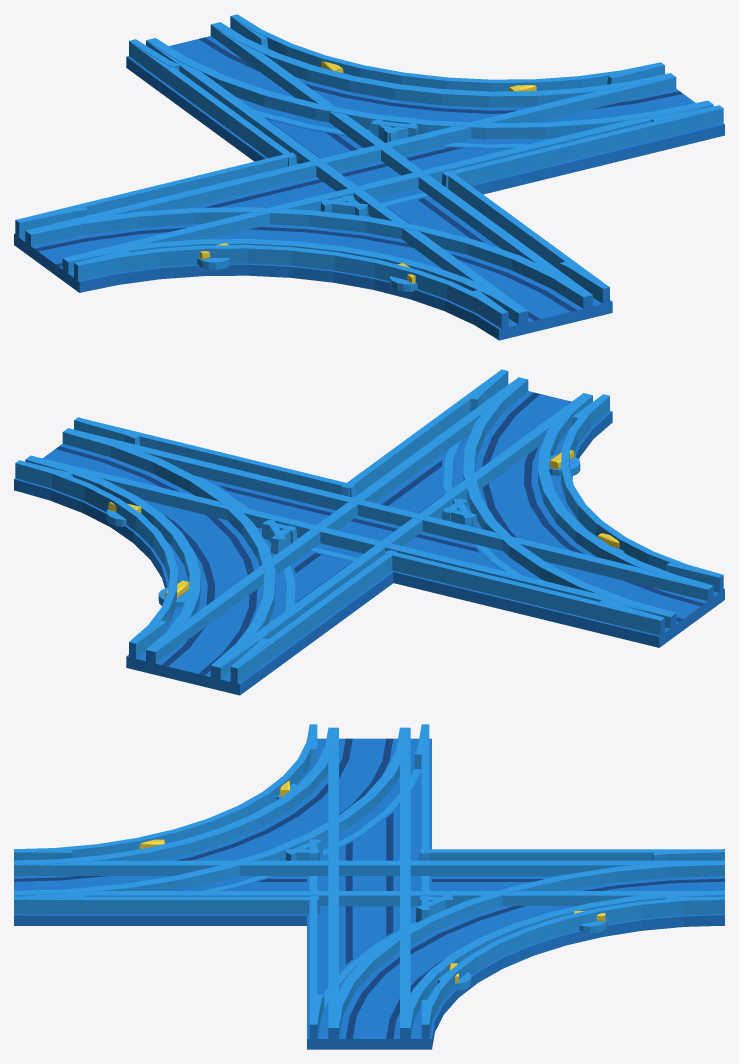
Rendered from Track_Point_Crossing.fbx.
3 renders of one model, top to bottom at view 1: azimuth 30°, elevation 25°; view 2: azimuth 150°, elevation 25°; view 3: azimuth 270°, elevation 25°, orthographic. The views are drawn at different scales.
Visible parts, largest first — view 1: Rail south-west, Rail west-east, Rail north-east, Rail north-south; view 2: Rail west-east, Rail north-east, Rail south-west, Rail north-south; view 3: Rail north-east, Rail north-south, Rail south-west, Rail west-east.
Part boxes in pixels (x1,y1,x2,y2): Rail south-west: [14, 199, 612, 340]; Rail west-east: [14, 65, 724, 273]; Rail north-east: [126, 14, 724, 148]; Rail north-south: [126, 16, 612, 340]; Rail west-east: [14, 419, 719, 647]; Rail north-east: [14, 417, 297, 684]; Rail south-west: [441, 369, 724, 636]; Rail north-south: [126, 372, 599, 695]; Rail north-east: [307, 849, 724, 1049]; Rail north-south: [14, 849, 724, 925]; Rail south-west: [14, 724, 431, 915]; Rail west-east: [307, 726, 431, 1049].
Bounding box in the file's own units: 600 × 23.51 × 600.
